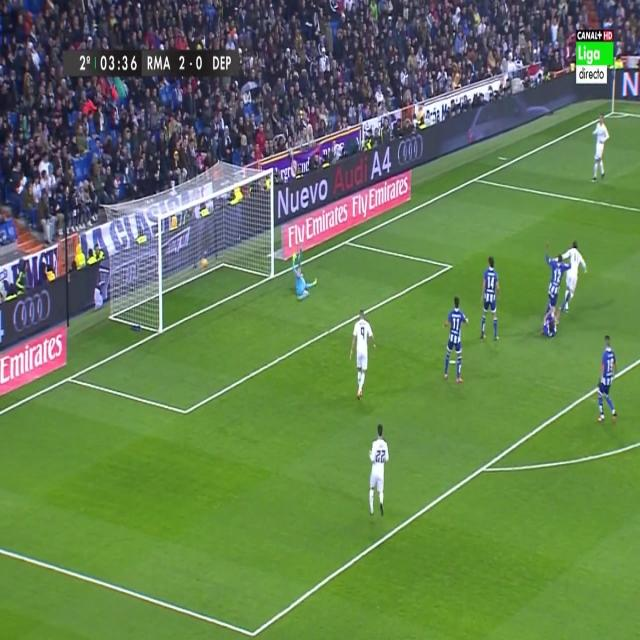Ball: (198, 253, 209, 276)
Goalkeeper: (288, 243, 320, 302)
Player: (348, 304, 378, 398), (441, 293, 470, 388), (366, 421, 390, 523), (594, 332, 619, 427), (478, 255, 503, 347), (564, 240, 590, 318), (590, 111, 610, 186), (546, 245, 570, 305), (540, 307, 560, 339)
